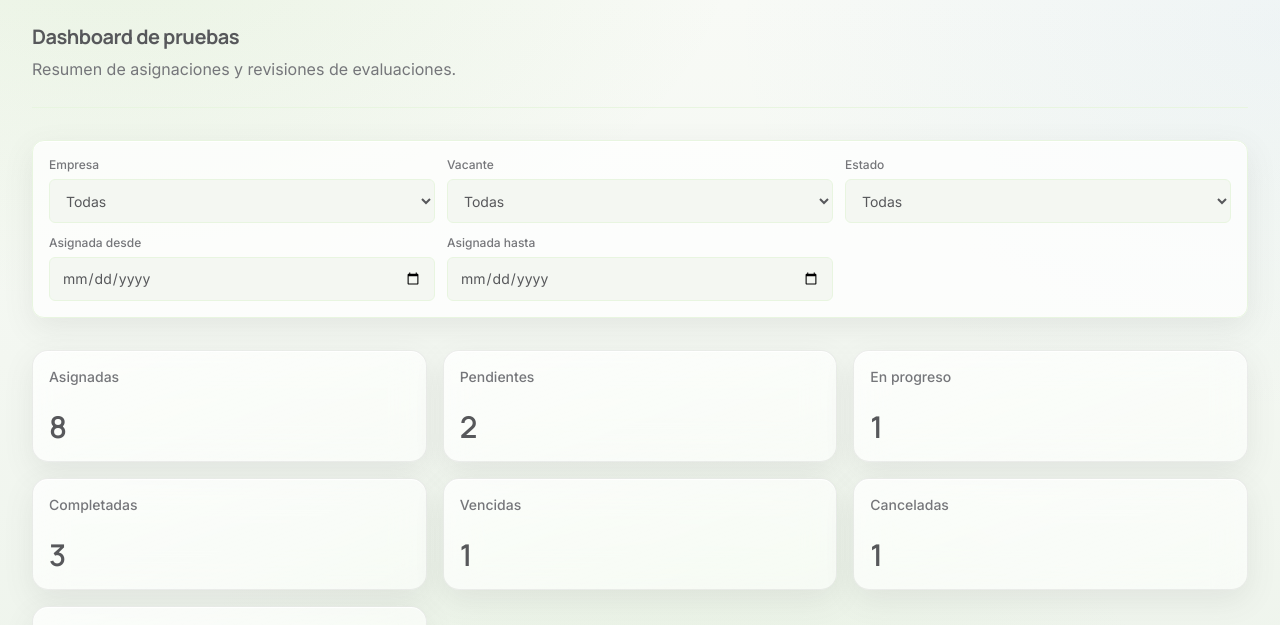
Test: PruebasDashboard UI › keeps filters visible when a filtered request fails
Expected: the dropdown labelled "Empresa" is shown, x1=49 y1=179 x2=435 y2=223
Select "Cancelada" in the dropdown labelled "Estado" at (1038, 201), box x1=845 y1=179 x2=1231 y2=223
(page scrolled)
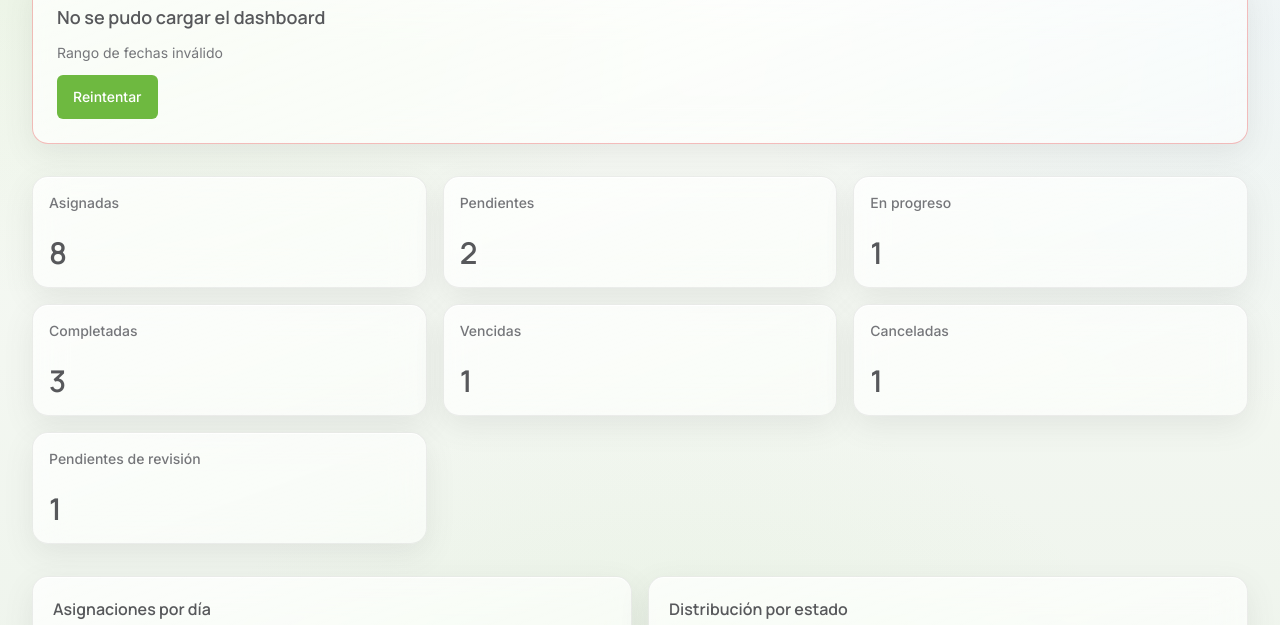
Expected: the list named "Métricas de asignaciones" is shown, x1=32 y1=176 x2=1248 y2=544
Expected: the text "Rango de fechas inválido" is shown, x1=57 y1=43 x2=223 y2=63
